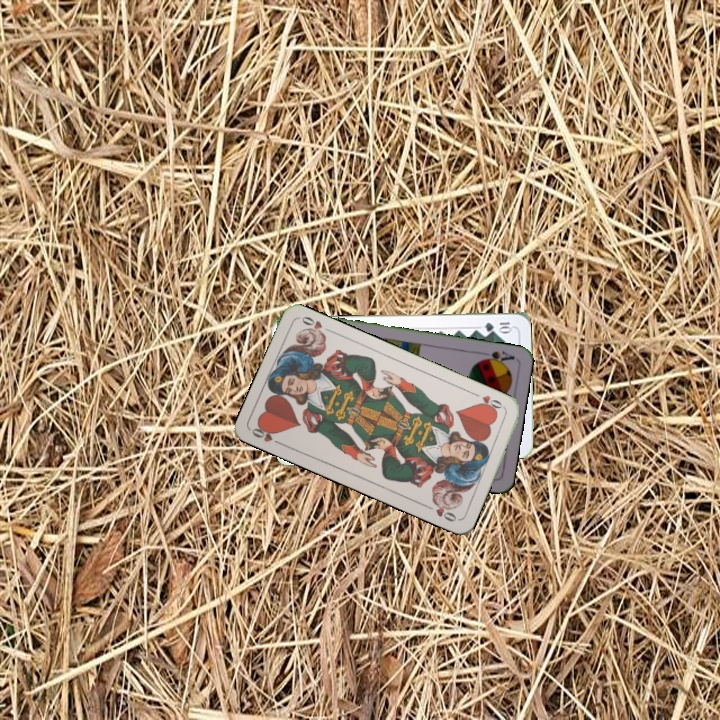G10: (480, 318, 515, 334)
HO: (248, 421, 286, 448), (469, 389, 508, 415)
SA: (475, 347, 517, 367)
